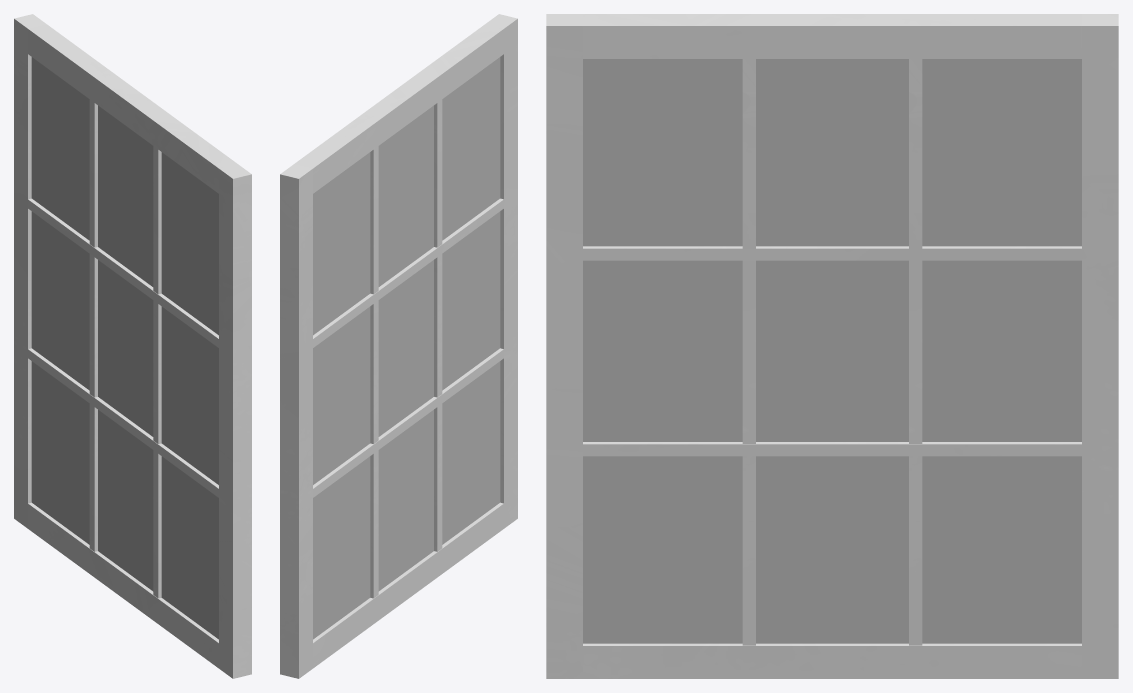
The model's file is SM_Door15E.fbx.
3 renders of one model, left to right at view 1: azimuth 30°, elevation 25°; view 2: azimuth 150°, elevation 25°; view 3: azimuth 270°, elevation 25°, orthographic. The views are drawn at different scales.
Visible parts, largest first — view 1: SM_Door15E; view 2: SM_Door15E; view 3: SM_Door15E.
Part boxes in pixels (x1=…): SM_Door15E: x1=14, y1=14, x2=251, y2=678; SM_Door15E: x1=280, y1=14, x2=517, y2=678; SM_Door15E: x1=546, y1=14, x2=1118, y2=678.
Size of the model in its own units: 4.64 by 93.28 by 117.
Materials: 2 (1 with a texture image).
